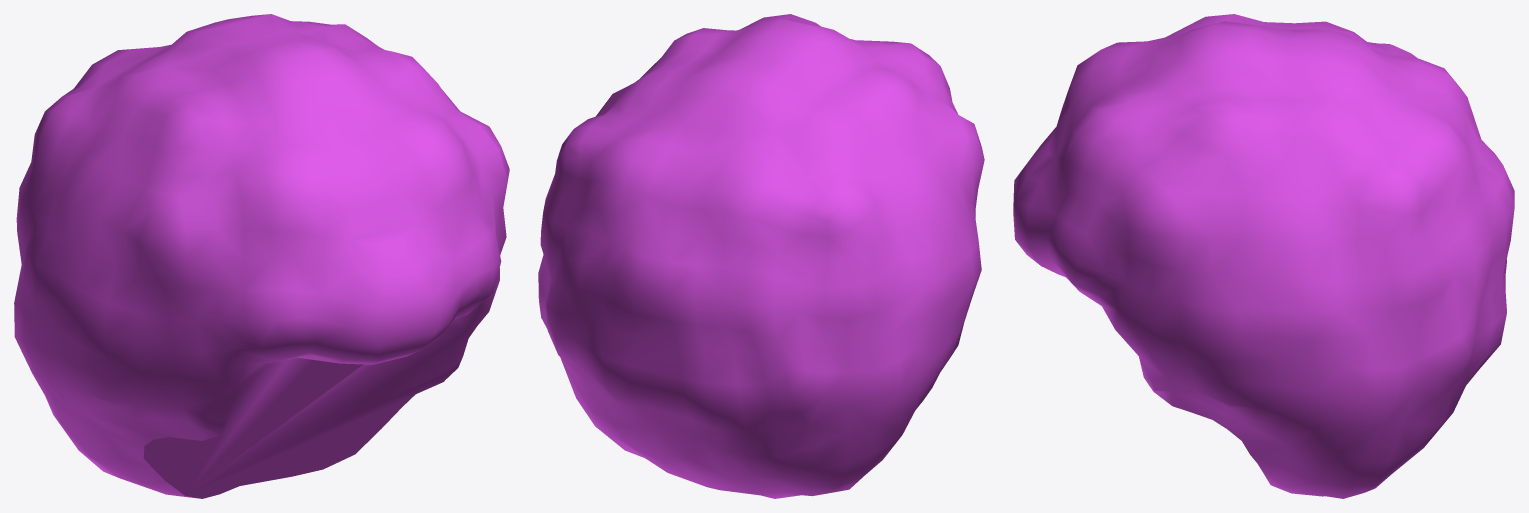
File: NLS_DUO Clown Hair.fbx
3 views of the same model, side by side, from view 1: azimuth 30°, elevation 25°; view 2: azimuth 150°, elevation 25°; view 3: azimuth 270°, elevation 25° (orthographic). The views are drawn at different scales.
Visible parts, largest first — view 1: NLS_DUO Clown Hair; view 2: NLS_DUO Clown Hair; view 3: NLS_DUO Clown Hair.
Part boxes in pixels (left/top/right/bottom): NLS_DUO Clown Hair: left=14, top=14, right=509, bottom=498; NLS_DUO Clown Hair: left=538, top=14, right=984, bottom=498; NLS_DUO Clown Hair: left=1013, top=14, right=1514, bottom=498.
Size of the model in its own units: 57.93 by 60.6 by 63.
